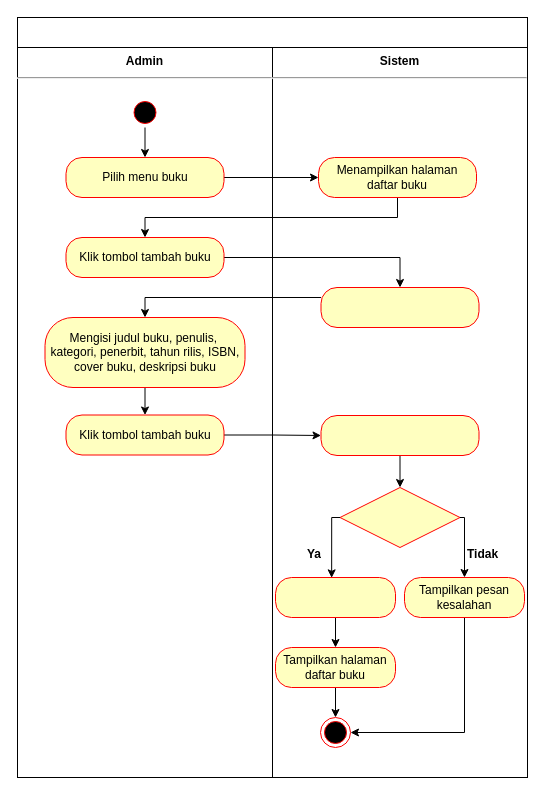
Some shapes in this 545 by 795 pixel diagram are drawn without their labels. The box of each missing label's shape, as (x1, y1, x2, y2) in pixels:
4. ACTIVITY DIAGRAM TAMBAH BUKU: (16, 16, 528, 48)
Data lengkap?: (339, 486, 460, 548)
Form tambah buku ditampilkan: (320, 286, 479, 328)
Simpan ke database: (274, 576, 396, 618)
Validasi data buku: (320, 414, 479, 456)
